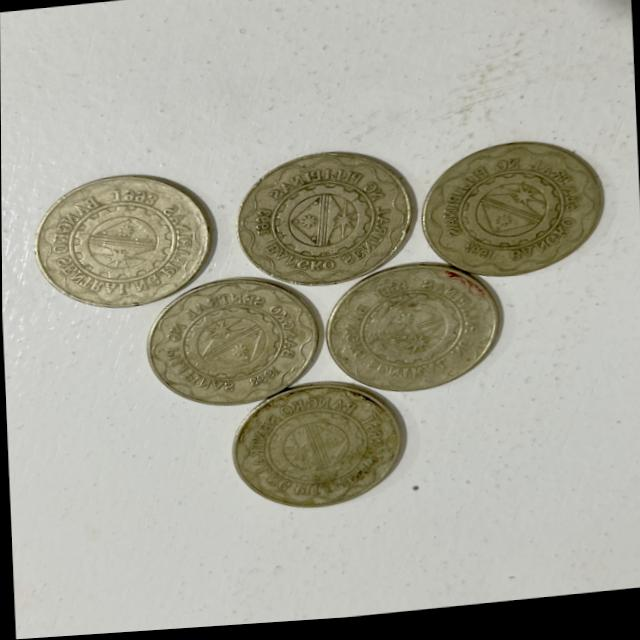5_Old_Back: (232, 376, 408, 530), (316, 258, 503, 402), (421, 143, 605, 287), (238, 152, 410, 297), (141, 277, 322, 414), (39, 163, 208, 308)
